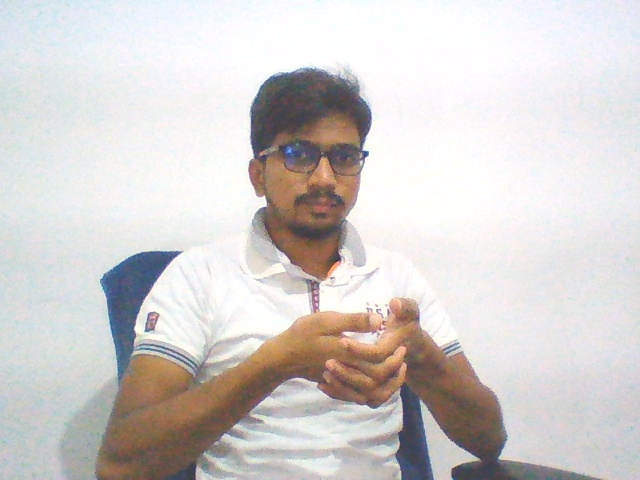mangosteen: (258, 294, 430, 416)
